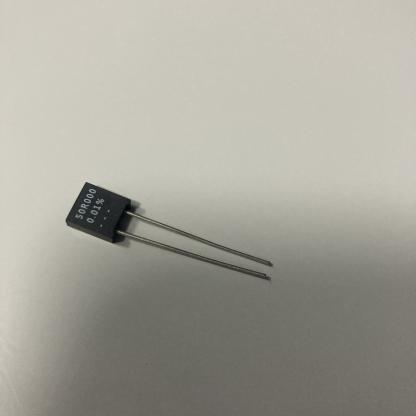SP0000008: (37, 142, 348, 332)
